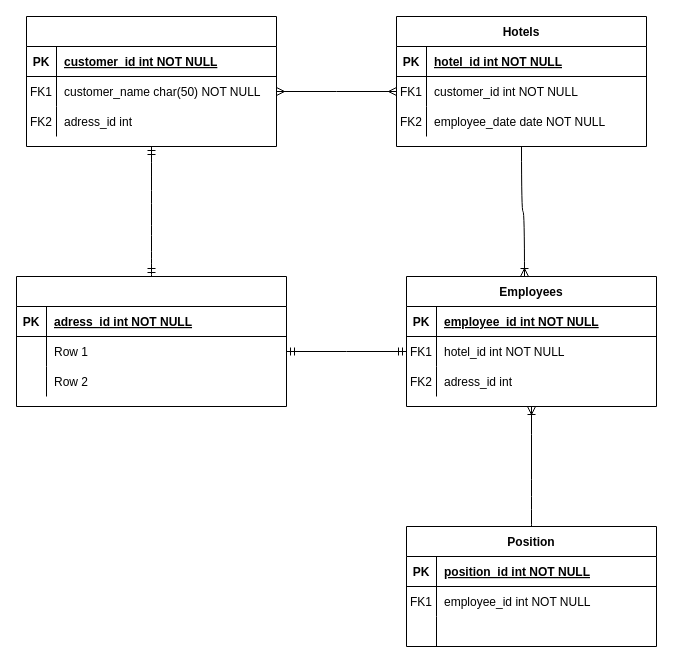
Image size: 673x663. Some labels were removed from this diagram. The shapes that lost their labels are listed below. From the top down, each one's box as (x1, y1, x2, y2) in pixels, then its label:
(26, 16, 276, 146): Customers
(16, 276, 286, 406): Adresses
